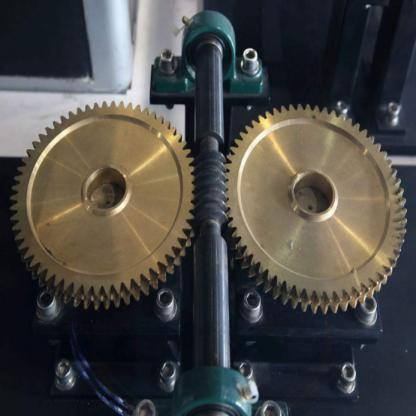FOD: (9, 96, 196, 313), (221, 103, 408, 316)
